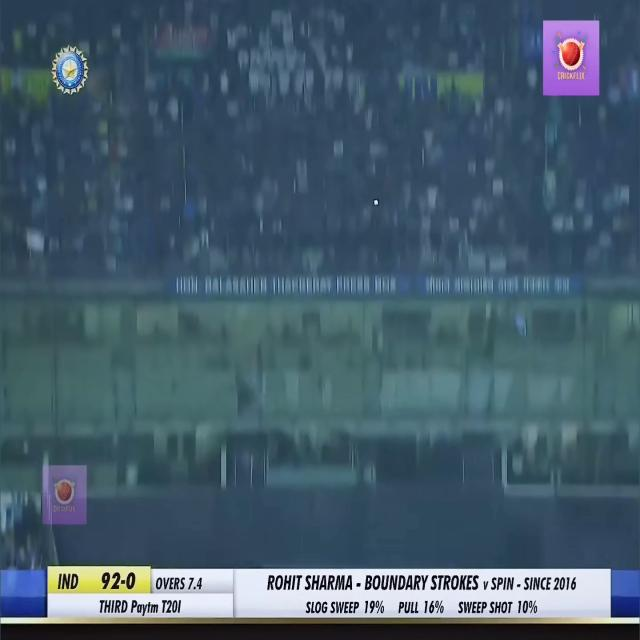fully_visible: (130, 596, 160, 618)
